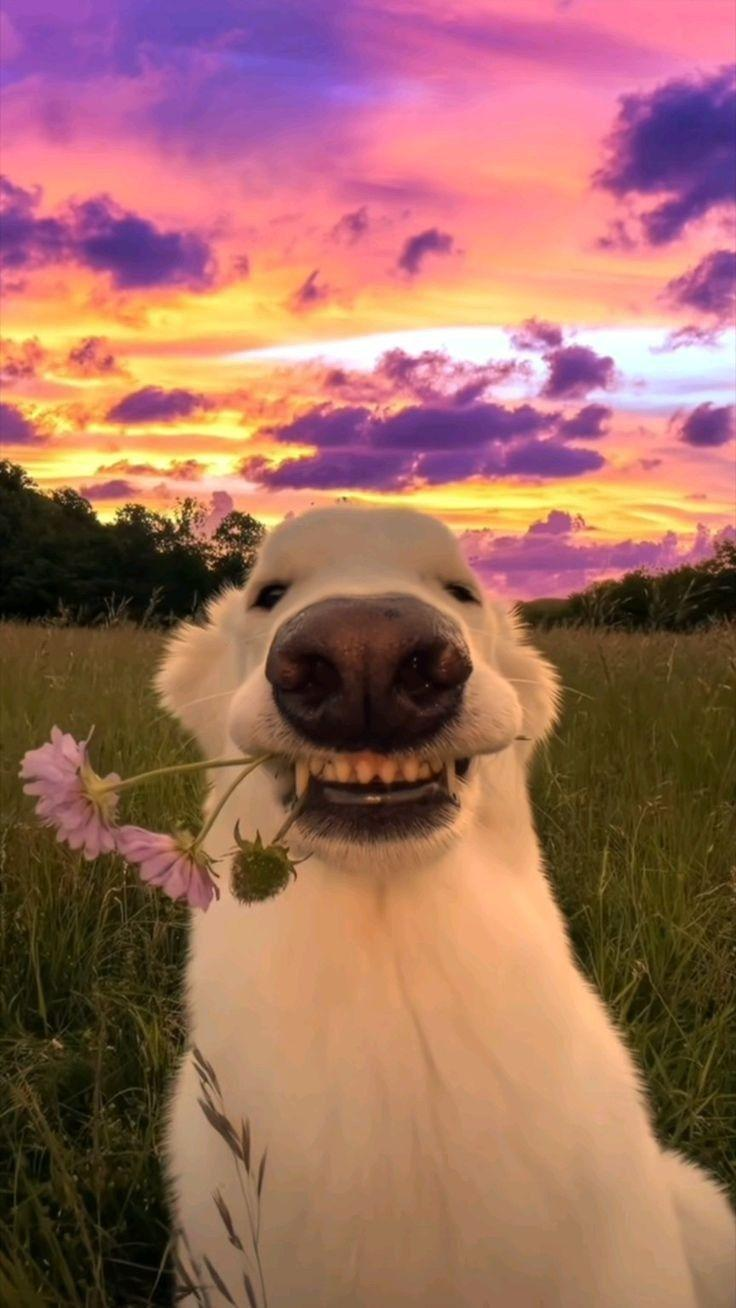adult_dog: (150, 500, 736, 1308)
